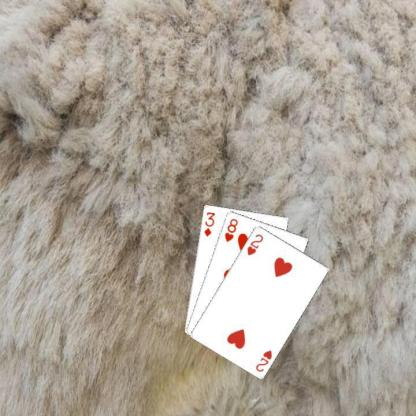2H: (244, 231, 264, 257), (253, 347, 273, 373)
3D: (201, 209, 216, 238)
8H: (222, 216, 239, 243)
